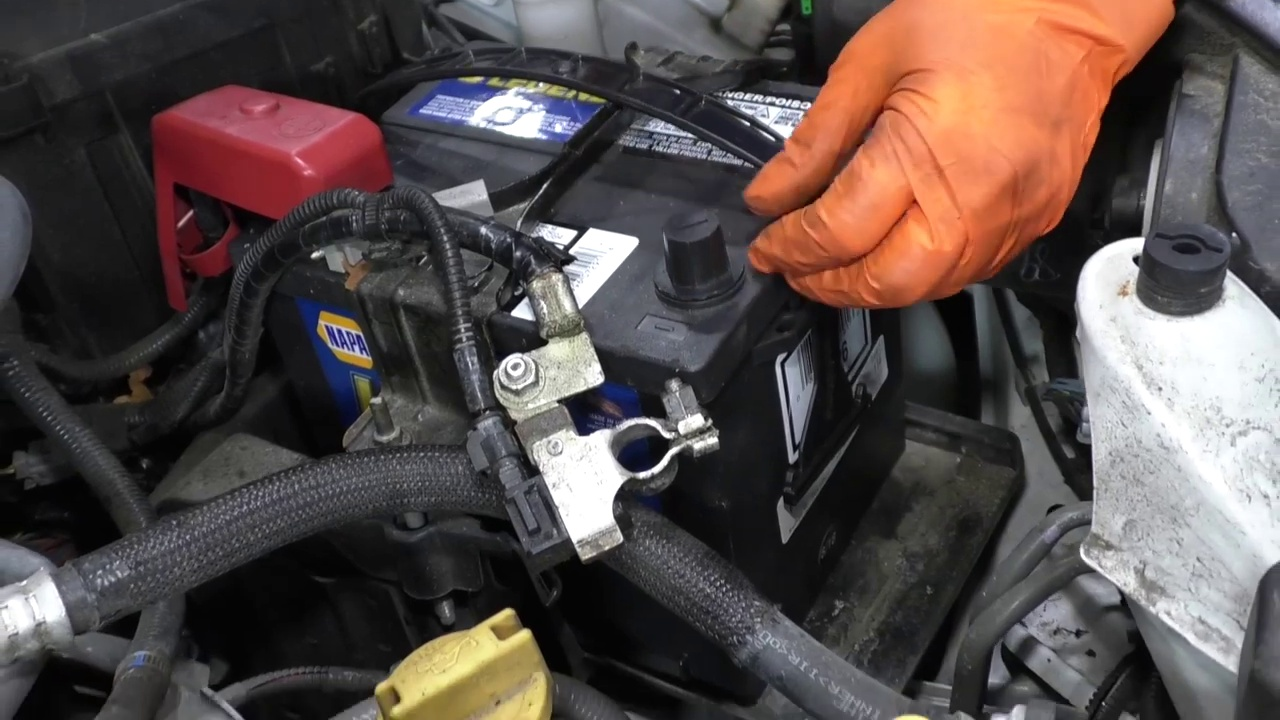battery: (267, 46, 874, 374)
pos_connected: (139, 82, 399, 310)
